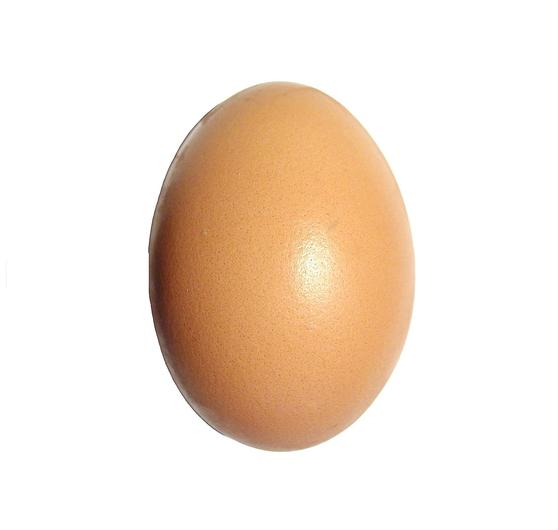egg: (154, 80, 414, 456)
